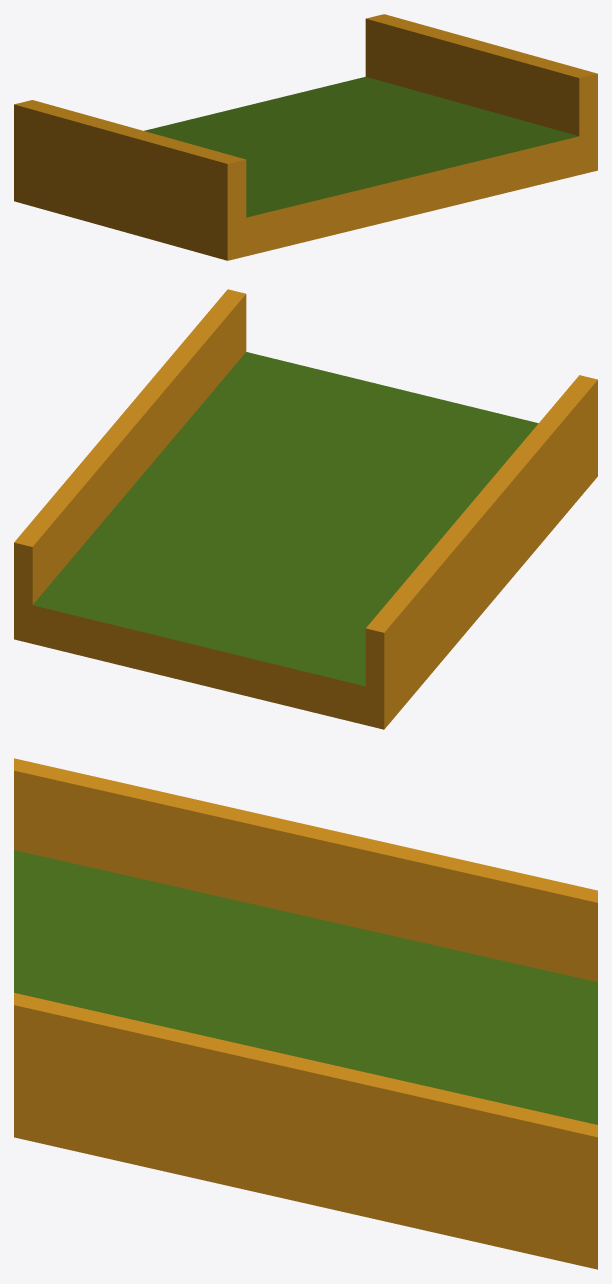
The model's file is Flat_Straight_riser_proto.fbx.
3 renders of one model, top to bottom at view 1: azimuth 30°, elevation 25°; view 2: azimuth 150°, elevation 25°; view 3: azimuth 270°, elevation 25°, orthographic. The views are drawn at different scales.
Visible parts, largest first — view 1: Flat_Straight_riser; view 2: Flat_Straight_riser; view 3: Flat_Straight_riser.
Part boxes in pixels (x1=…): Flat_Straight_riser: x1=14, y1=14, x2=597, y2=260; Flat_Straight_riser: x1=14, y1=289, x2=597, y2=729; Flat_Straight_riser: x1=14, y1=758, x2=597, y2=1269.
Size of the model in its own units: 100 by 50 by 100.
